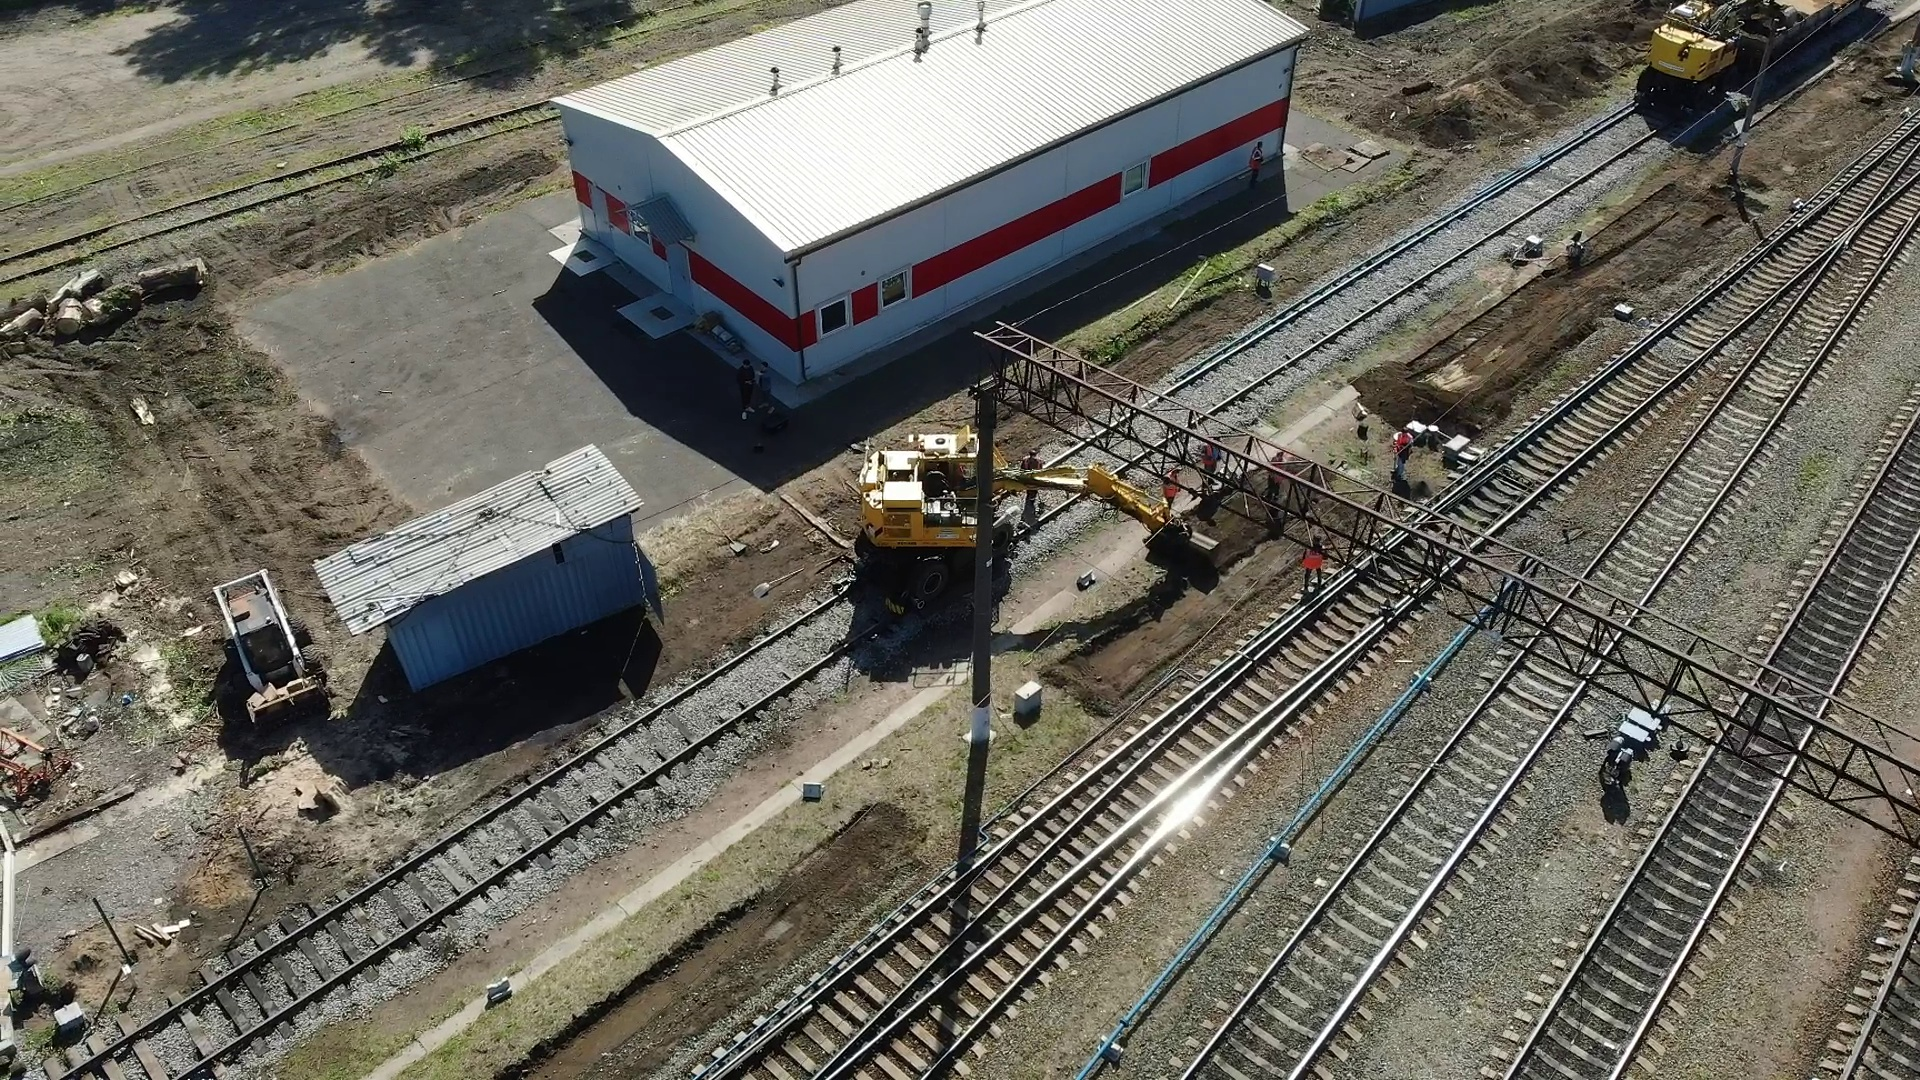kjtv: (850, 433, 1111, 612)
